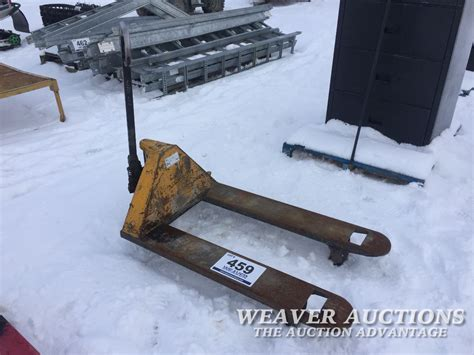Pallet Jack: (111, 18, 419, 326)
